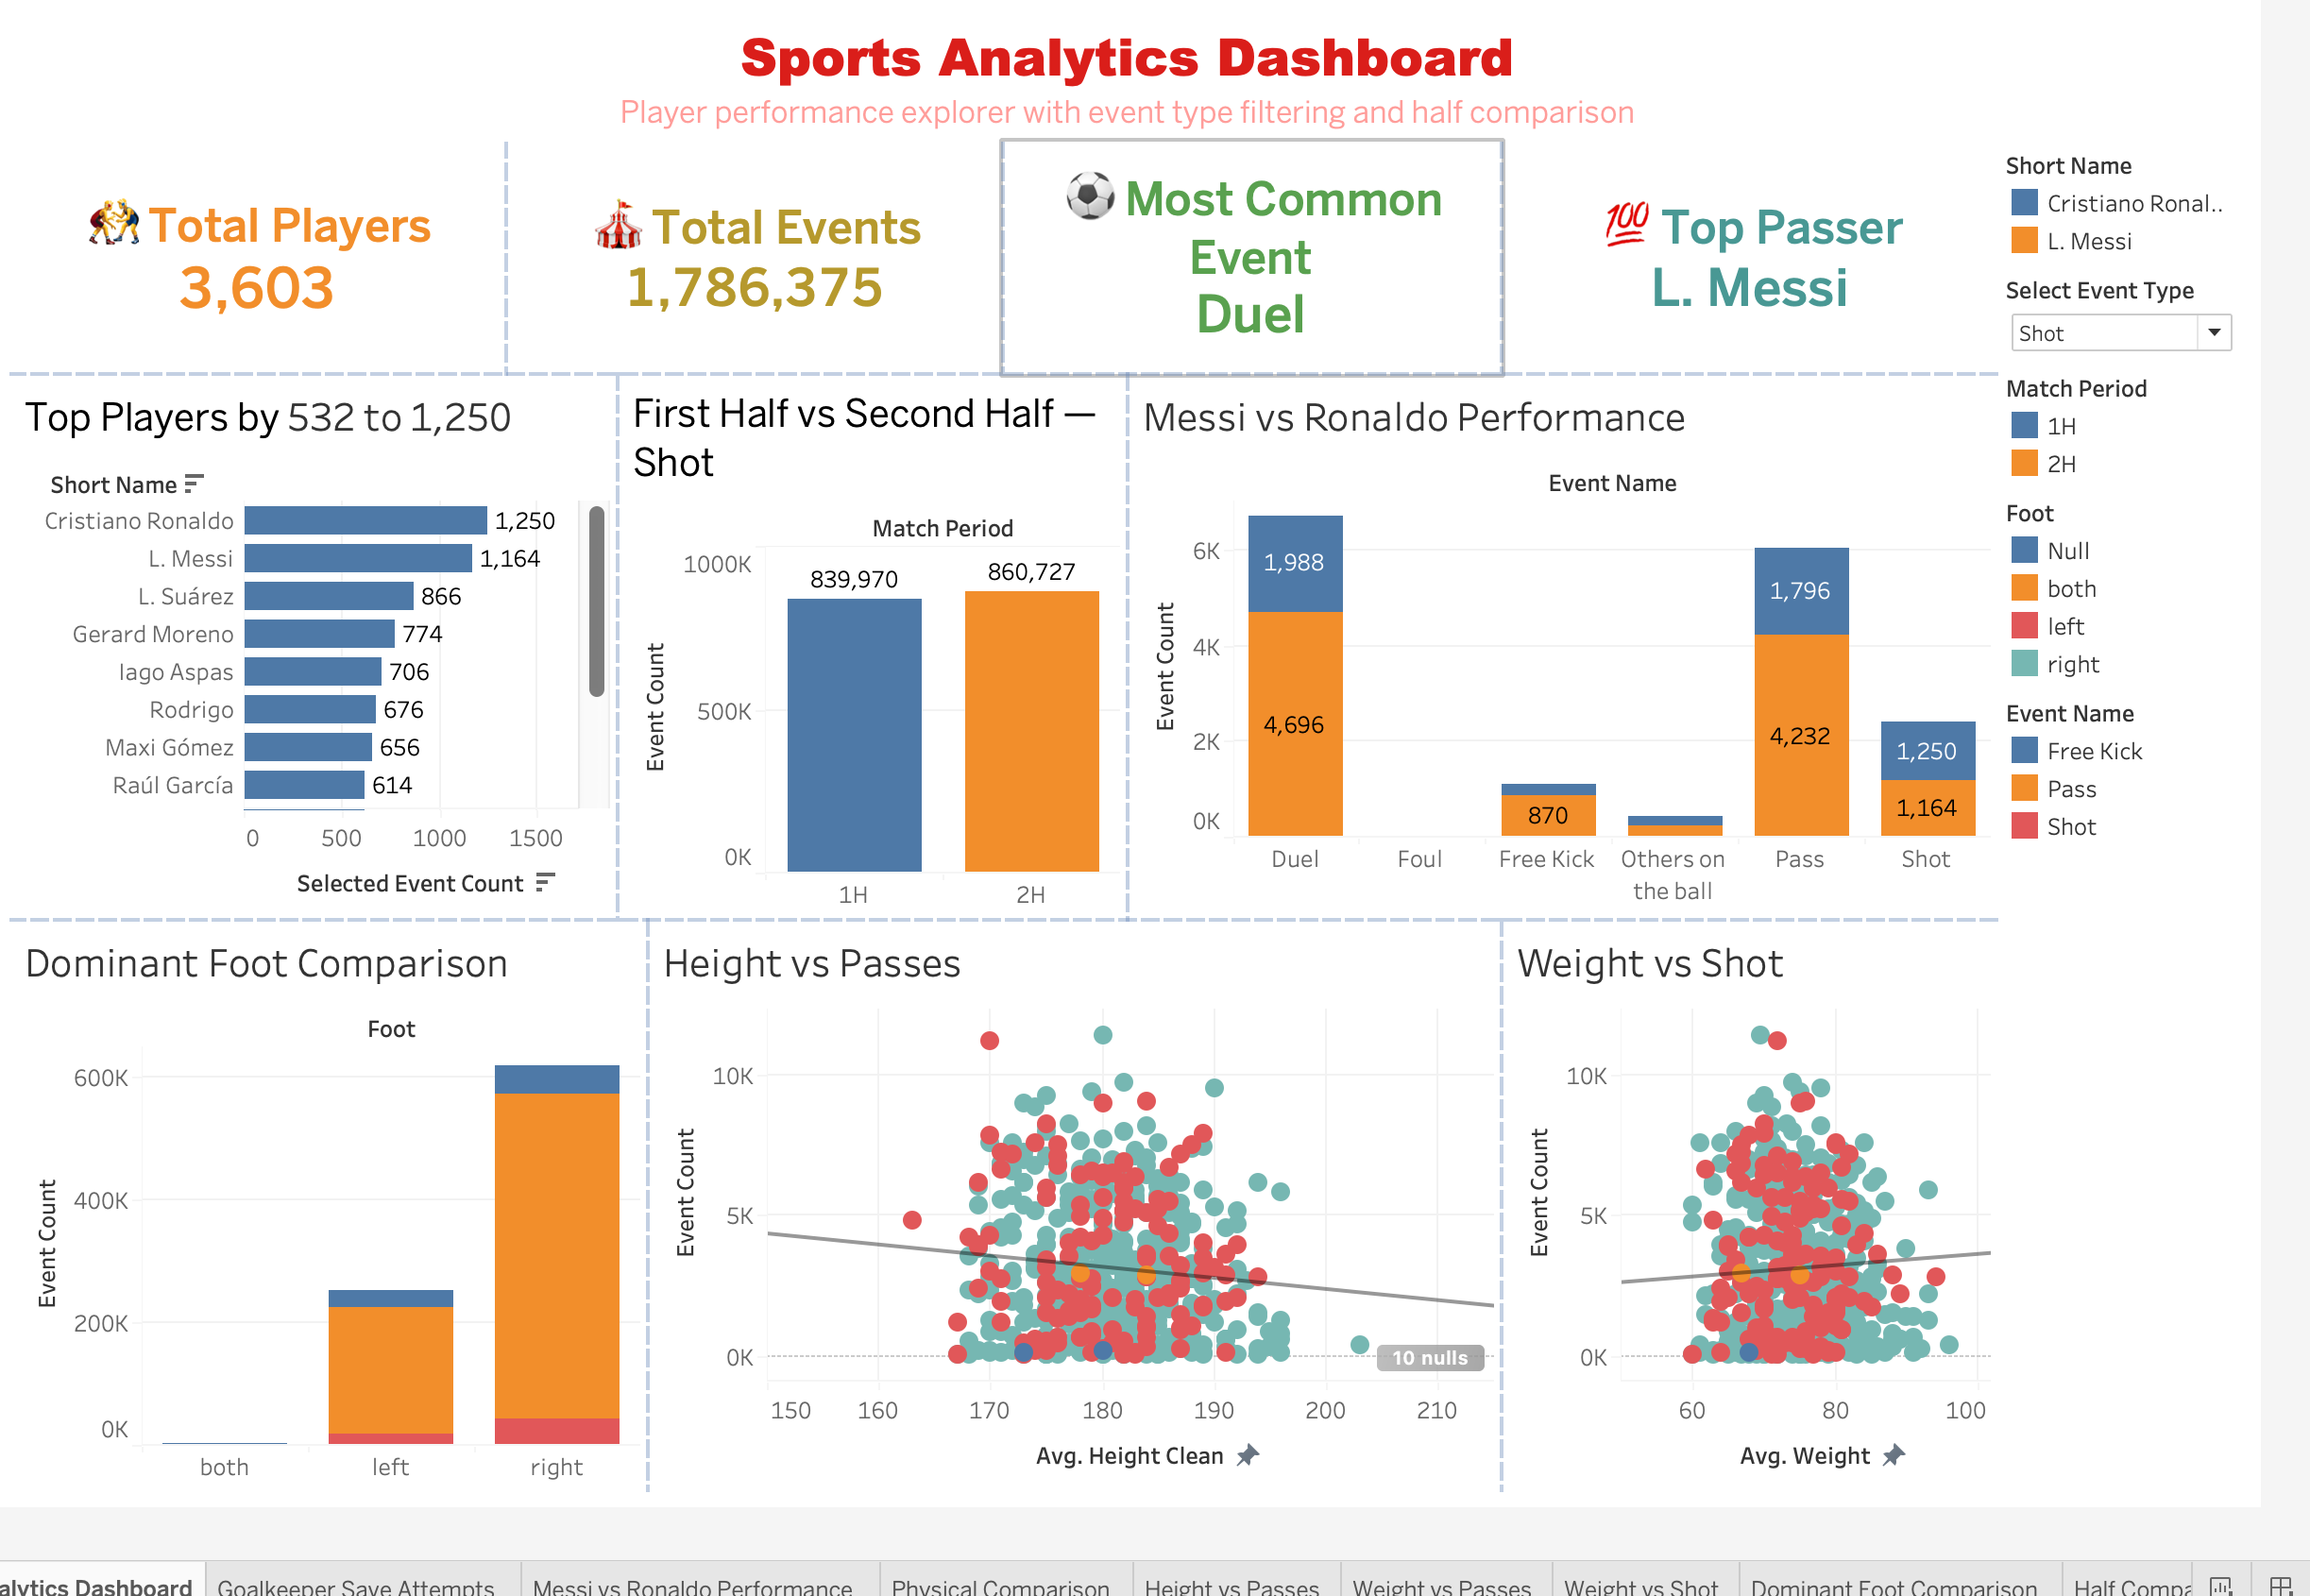

This screenshot's page, from the dashboard's own definition file:
{"tool":"tableau","page":{"name":"Sports Analytics Dashboard","canvas":[1200,800],"ordinal":0},"visuals":[{"type":"text","box":[8,8,1184,69]},{"type":"text","box":[8,77,263.2,123]},{"type":"text","box":[271.2,77,263.2,123]},{"type":"text","box":[534.5,77,263.3,123]},{"type":"text","box":[797.7,77,263.3,123]},{"type":"legend","title":"Messi vs Ronaldo Performance","param":"[federated.0s09jpu06azacy1aazuhe17n8bbm].[none:shortName:nk]","box":[1061,77,131,66]},{"type":"parameter","param":"[Parameters].[Parameter 1]","box":[1061,143,131,52]},{"type":"legend","title":"Half Comparison","param":"[federated.0s09jpu06azacy1aazuhe17n8bbm].[none:matchPeriod:nk]","box":[1061,195,131,66]},{"type":"worksheet","title":"Player Ranking","mark":"Automatic","rows":["shortName"],"cols":["Calculation_5678561673666575"],"box":[8,200,322,289]},{"type":"worksheet","title":"Half Comparison","mark":"Automatic","rows":["Calculation_5678561387855874"],"cols":["matchPeriod"],"box":[330,200,270,289]},{"type":"worksheet","title":"Messi vs Ronaldo Performance","mark":"Automatic","rows":["Calculation_5678561387855874"],"cols":["eventName"],"box":[600,200,461,289]},{"type":"legend","title":"Height vs Passes","param":"[federated.0s09jpu06azacy1aazuhe17n8bbm].[none:foot:nk]","box":[1061,261,131,106]},{"type":"legend","title":"Dominant Foot Comparison","param":"[federated.0s09jpu06azacy1aazuhe17n8bbm].[none:eventName:nk]","box":[1061,367,131,86]},{"type":"worksheet","title":"Dominant Foot Comparison","mark":"Automatic","rows":["Calculation_5678561387855874"],"cols":["foot"],"box":[8,489,338,303]},{"type":"worksheet","title":"Height vs Passes","mark":"Circle","rows":["Calculation_5678561387855874"],"cols":["Calculation_5678561536671758"],"box":[346,489,451.7,303]},{"type":"worksheet","title":"Weight vs Shot","mark":"Circle","rows":["Calculation_5678561387855874"],"cols":["weight"],"box":[797.7,489,263.3,303]}]}

Visuals, with their boxes on the page's 1200x800 design canvas (x1, y1, x2, y2). These are canvas units, not pixel positions in the 2310x1596 screenshot, which may show the page scaled, cropped or inside an application window:
text: box(8, 8, 1192, 77)
text: box(8, 77, 271, 200)
text: box(271, 77, 534, 200)
text: box(534, 77, 798, 200)
text: box(798, 77, 1061, 200)
"Messi vs Ronaldo Performance" legend: box(1061, 77, 1192, 143)
parameter: box(1061, 143, 1192, 195)
"Half Comparison" legend: box(1061, 195, 1192, 261)
"Player Ranking" worksheet: box(8, 200, 330, 489)
"Half Comparison" worksheet: box(330, 200, 600, 489)
"Messi vs Ronaldo Performance" worksheet: box(600, 200, 1061, 489)
"Height vs Passes" legend: box(1061, 261, 1192, 367)
"Dominant Foot Comparison" legend: box(1061, 367, 1192, 453)
"Dominant Foot Comparison" worksheet: box(8, 489, 346, 792)
"Height vs Passes" worksheet (Circle marks): box(346, 489, 798, 792)
"Weight vs Shot" worksheet (Circle marks): box(798, 489, 1061, 792)
